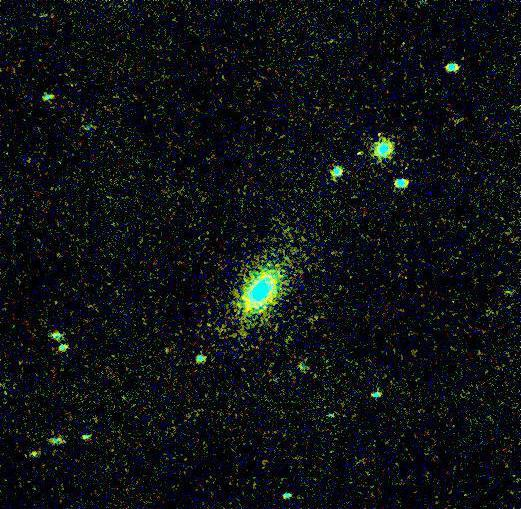star: (12, 443, 42, 473)
